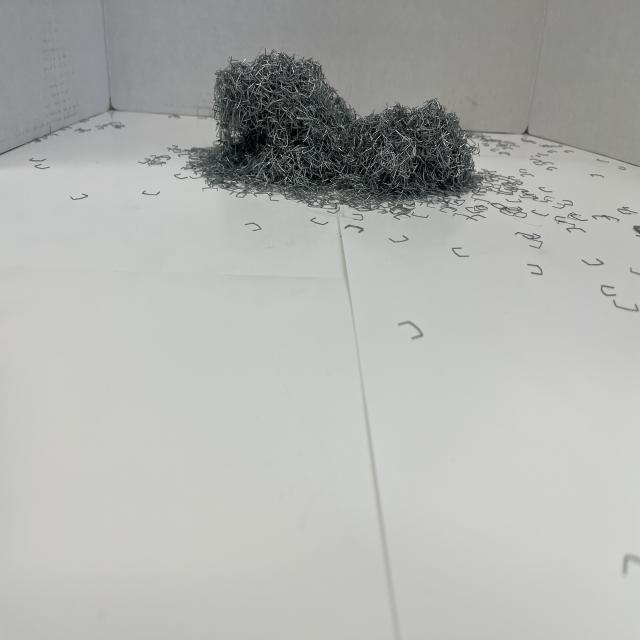staples: (197, 46, 480, 199)
